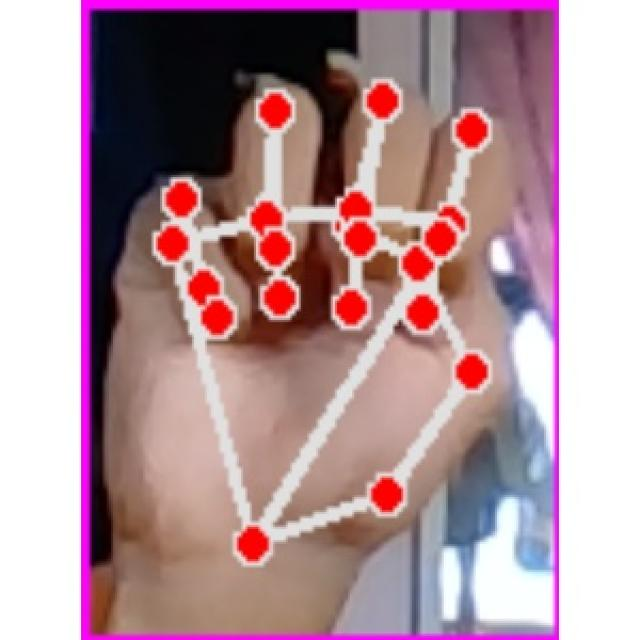M: (106, 34, 538, 615)
